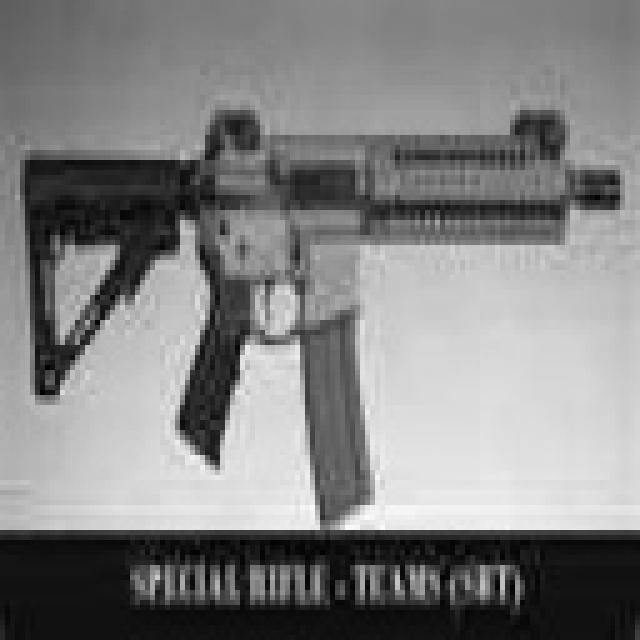Rifle: (7, 90, 635, 530)
